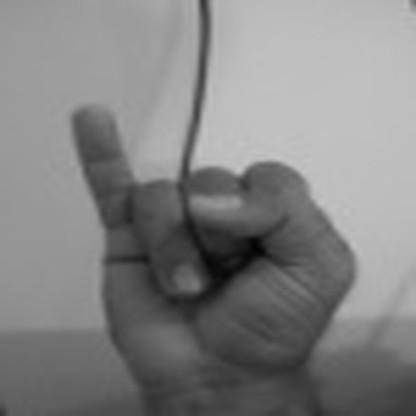i: (57, 96, 356, 390)
